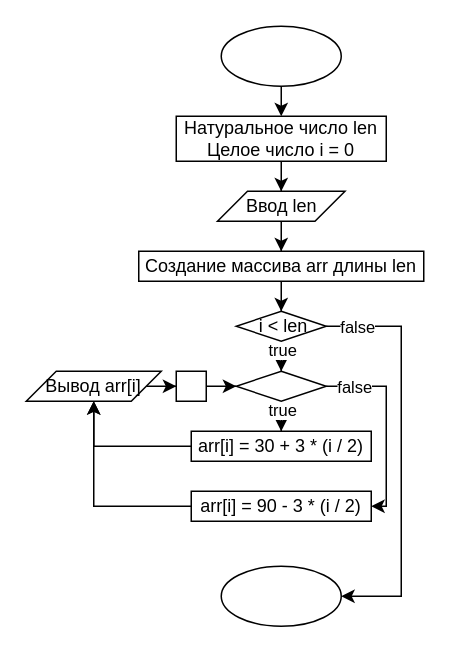
Some shapes in this 450 by 653 pixel diagram are drawn without their labels. The shapes that lost their labels are listed below. From the top down, each one's centre as x and y in pixels, then its label:
At [280,55]: "Начало".
At [190,385]: "++i".
At [280,385]: "i % 2".
At [280,595]: "Конец".
